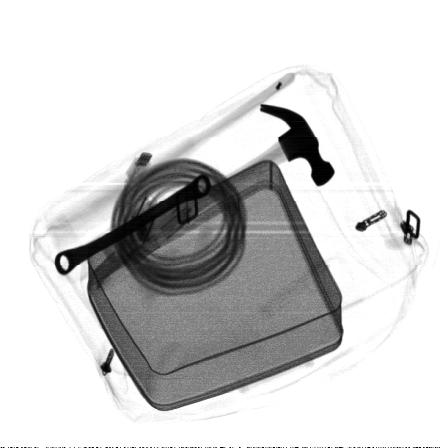Hammer: (101, 104, 335, 264)
Wrench: (54, 173, 210, 274)
